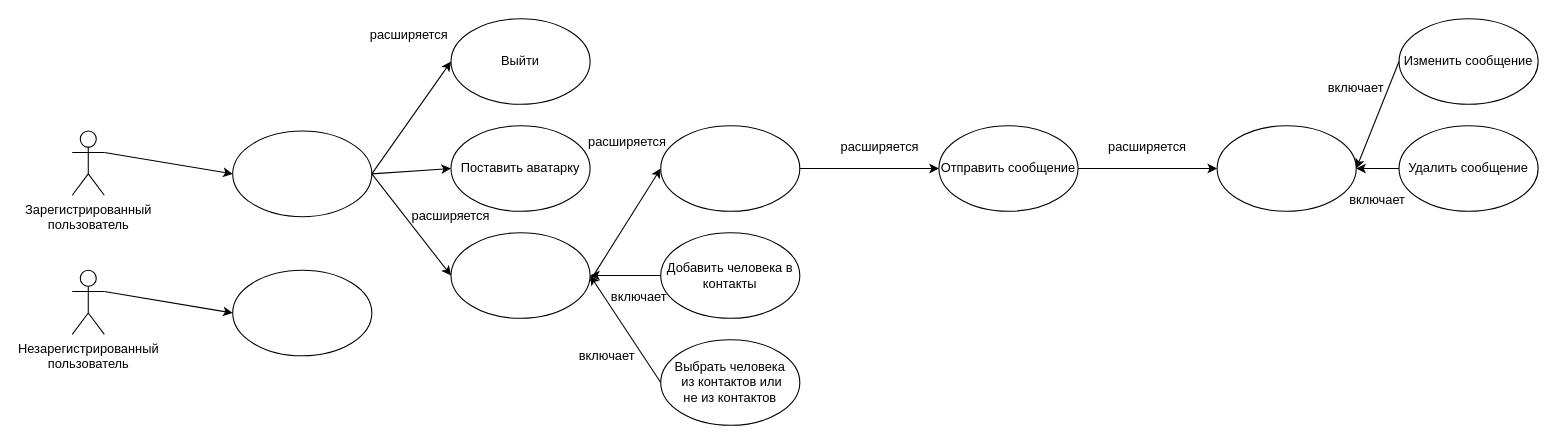
Image size: 1557x444. Some labels were removed from this diagram. The shapes that lost their labels are listed below. From the top down, each one's centre as x and y in pixels, then its label:
At (302,173): "Войти".
At (730,168): "Посмотреть диалог с выбранным человеком".
At (1286,168): "Редактировать сообщение".
At (520,275): "Посмотреть список контактов".
At (302,312): "Зарегистрироваться".
